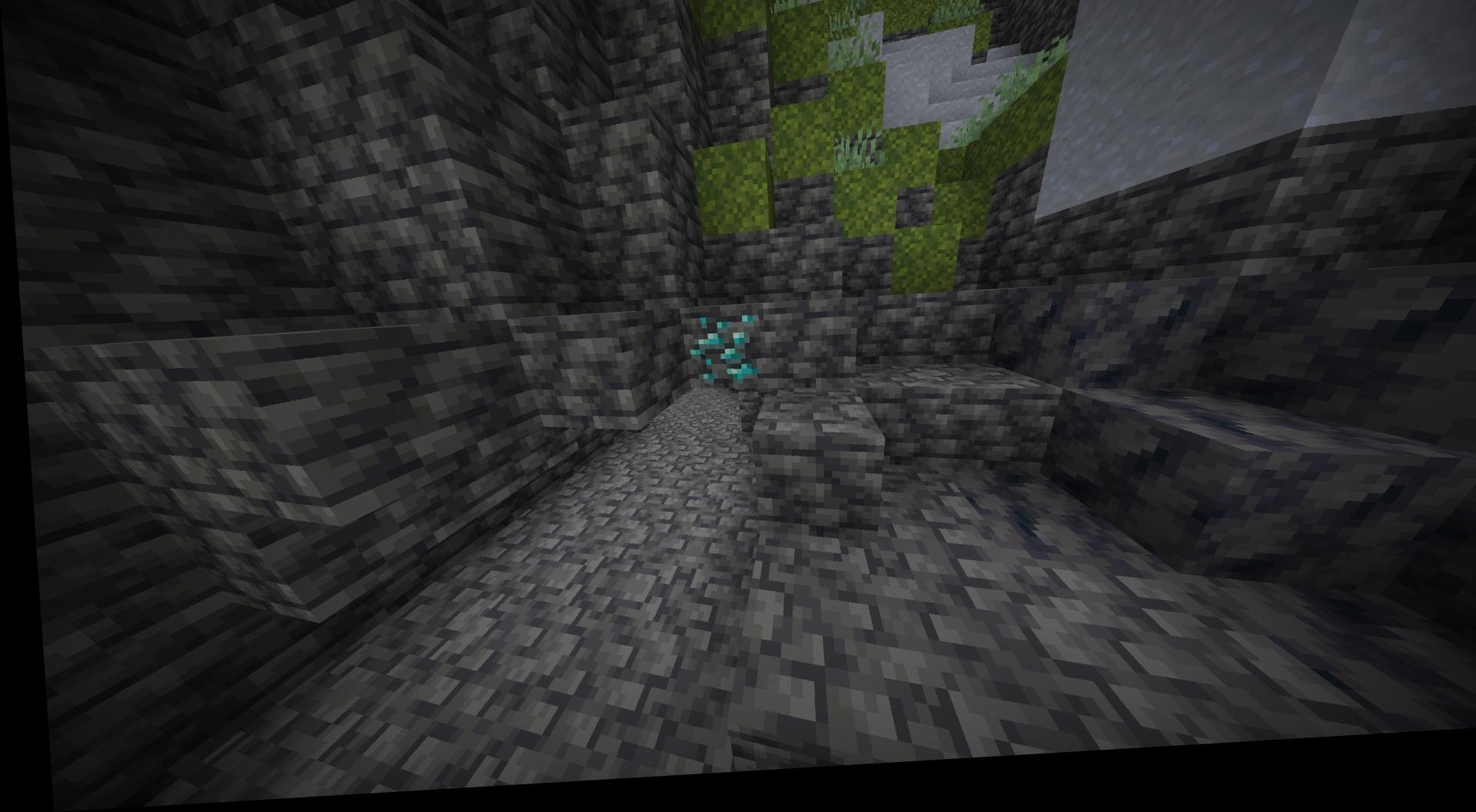diamond ore: (680, 316, 751, 395)
